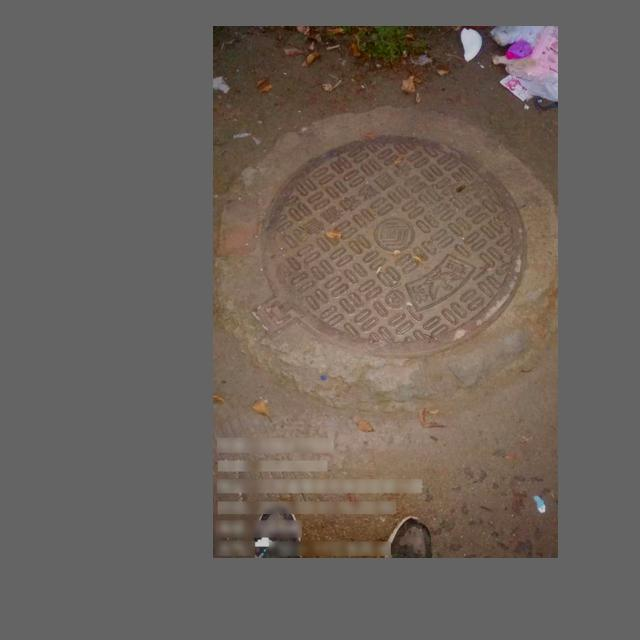good: (227, 112, 554, 393)
